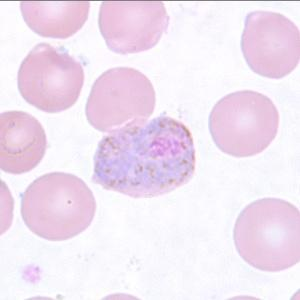Infected: (93, 114, 196, 199)
Uninfected: (19, 171, 96, 239), (234, 196, 300, 274), (208, 88, 279, 157), (84, 68, 155, 134), (17, 43, 85, 111), (241, 11, 300, 79), (99, 0, 170, 55), (0, 109, 48, 175), (21, 0, 90, 38)
